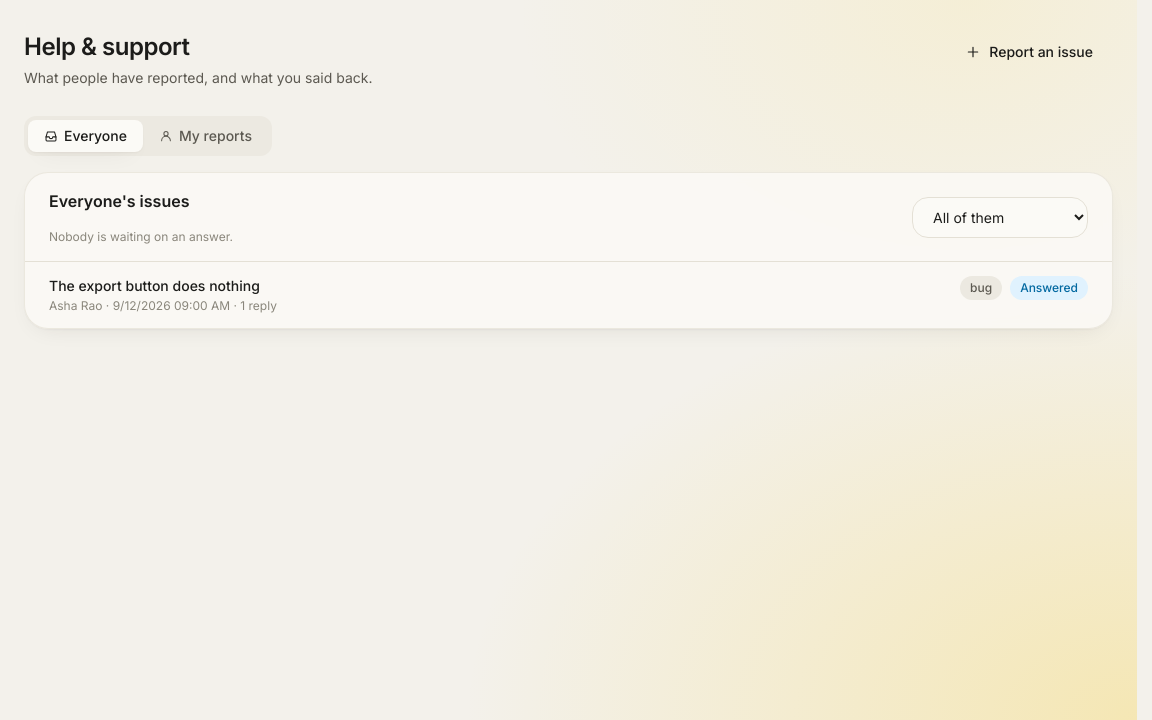
Scenario: the queue › opens a report to its whole thread
Step 1. Click the button "export button" → (154, 286), box left=25, top=262, right=1112, bottom=328
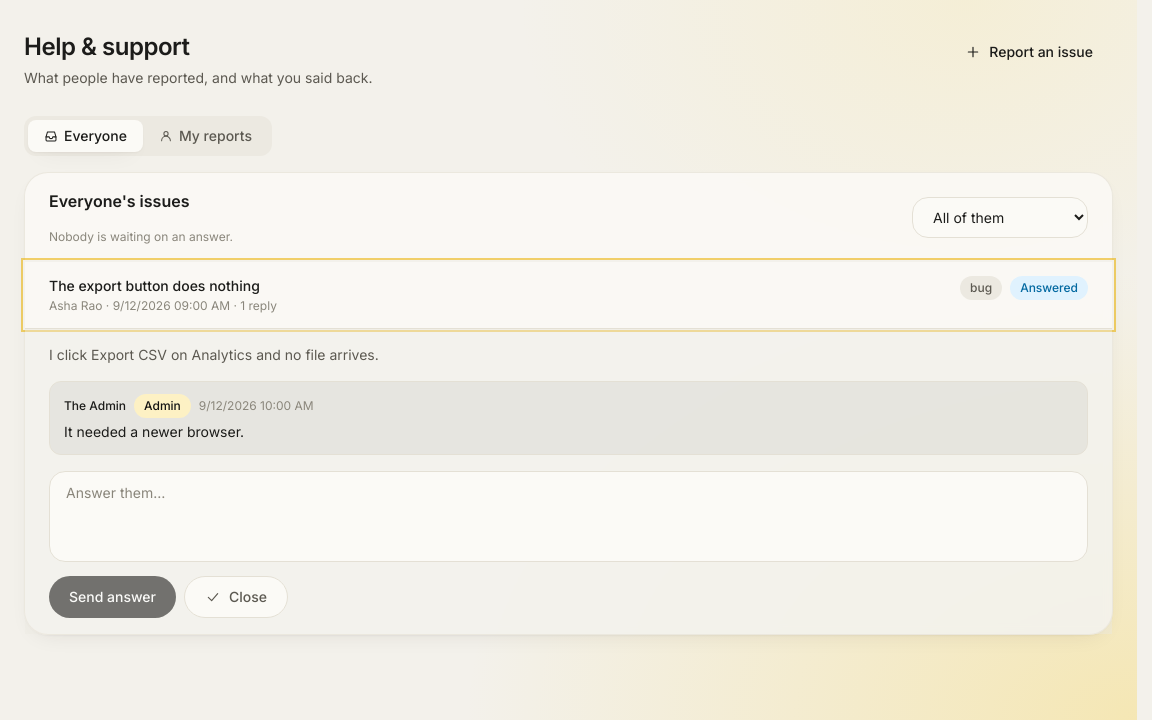
Expected: the text "It needed a newer browser." is shown, left=64, top=423, right=244, bottom=440
Expected: the text "I click Export CSV on Analytics and no file arrives." is shown, left=49, top=346, right=379, bottom=363
